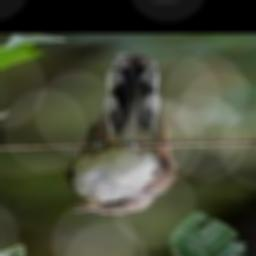Cuckoo: (62, 51, 176, 214)
